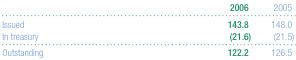table: (1, 1, 293, 57)
table column: (1, 1, 134, 57), (134, 1, 260, 57), (260, 1, 293, 57)
table column header: (1, 1, 293, 15)
table row: (1, 1, 293, 15), (1, 15, 293, 29), (1, 29, 293, 43), (1, 43, 293, 57)
